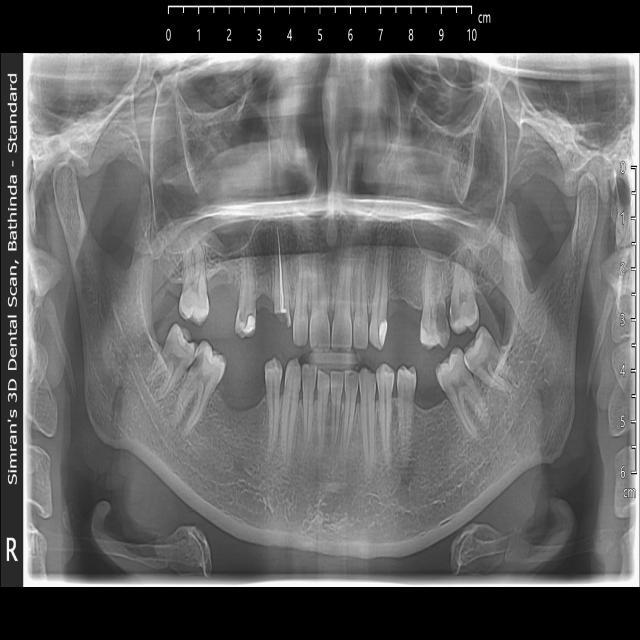Caries: (190, 340, 223, 384), (450, 290, 477, 333), (434, 300, 449, 333)
Filling: (239, 312, 255, 336), (379, 320, 388, 346)
Missing teeth: (208, 367, 264, 445), (417, 376, 450, 438), (387, 281, 422, 334), (210, 263, 236, 312), (257, 270, 273, 326)
Root Canal Treatment: (274, 220, 291, 322)
